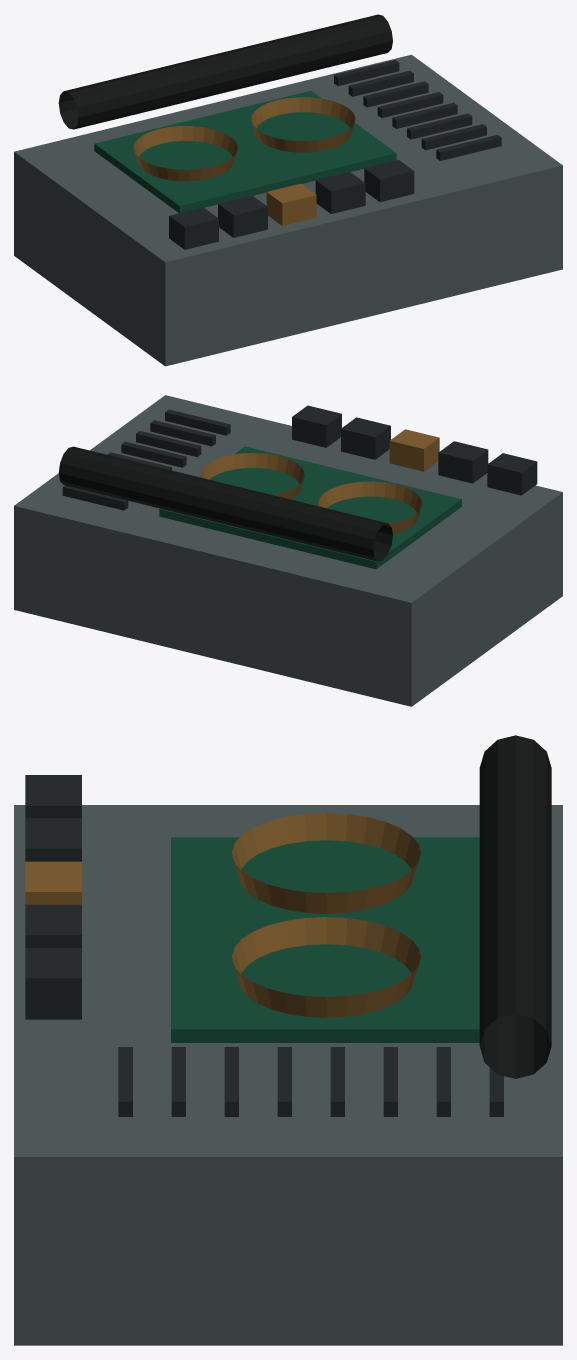
Rendered from cassette-recorder.obj.
3 views of the same model, one above another, from view 1: azimuth 30°, elevation 25°; view 2: azimuth 150°, elevation 25°; view 3: azimuth 270°, elevation 25° (orthographic). The views are drawn at different scales.
Parts seen in each view (by area): view 1: Recorder_chassis, Cassette_transparent_window, Handle, Reel_0.14, Reel_-0.51, Transport_4, Transport_3, Transport_2, Transport_0, Transport_1, Speaker_vent_3, Speaker_vent_5 (+6 smaller); view 2: Recorder_chassis, Handle, Cassette_transparent_window, Reel_-0.51, Reel_0.14, Transport_0, Transport_1, Transport_2, Transport_4, Transport_3, Speaker_vent_4, Speaker_vent_6 (+3 smaller); view 3: Recorder_chassis, Cassette_transparent_window, Handle, Reel_-0.51, Reel_0.14, Transport_4, Transport_0, Transport_1, Transport_2, Transport_3, Speaker_vent_1, Speaker_vent_2 (+5 smaller).
Part boxes in pixels (x1,y1,x2,y2): Recorder_chassis: (14, 54, 562, 366); Cassette_transparent_window: (94, 91, 396, 213); Handle: (58, 14, 392, 129); Reel_0.14: (251, 97, 355, 152); Reel_-0.51: (134, 126, 237, 181); Transport_4: (364, 160, 414, 202); Transport_3: (315, 171, 365, 213); Transport_2: (266, 183, 316, 225); Transport_0: (169, 207, 218, 249); Transport_1: (218, 195, 267, 237); Speaker_vent_3: (377, 92, 443, 118); Speaker_vent_5: (407, 113, 472, 139); Recorder_chassis: (14, 395, 562, 706); Handle: (58, 446, 392, 561); Cassette_transparent_window: (159, 446, 461, 569); Reel_-0.51: (318, 481, 422, 534); Reel_0.14: (200, 453, 304, 499); Transport_0: (487, 453, 537, 495); Transport_1: (438, 441, 488, 483); Transport_2: (389, 429, 439, 471); Transport_4: (292, 405, 341, 447); Transport_3: (341, 417, 390, 459); Speaker_vent_4: (121, 441, 186, 467); Speaker_vent_6: (150, 420, 215, 446); Recorder_chassis: (14, 805, 562, 1345); Cassette_transparent_window: (171, 837, 479, 1042); Handle: (479, 735, 551, 1078); Reel_-0.51: (232, 813, 420, 913); Reel_0.14: (232, 917, 420, 1017); Transport_4: (25, 948, 81, 1019); Transport_0: (25, 775, 81, 818); Transport_1: (25, 818, 81, 861); Transport_2: (25, 861, 81, 904); Transport_3: (25, 904, 81, 947); Speaker_vent_1: (436, 1047, 450, 1116); Speaker_vent_2: (383, 1047, 397, 1116).
Size of the model in its own units: 2.2 by 0.86 by 1.45.
